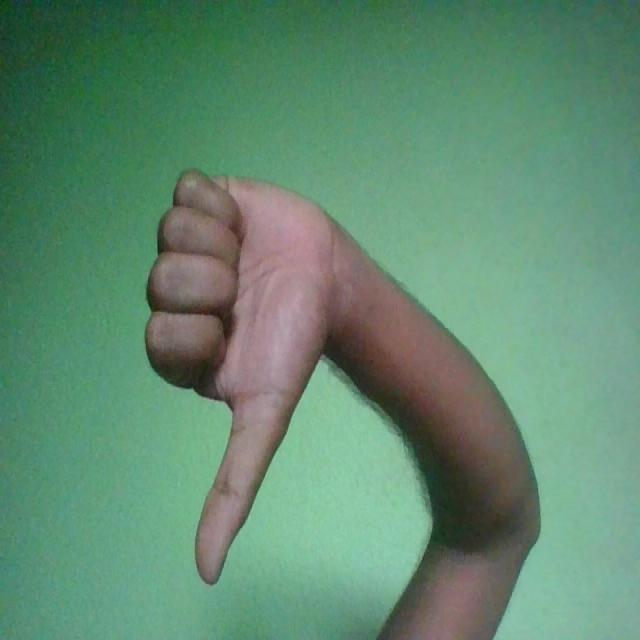Dislike: (143, 166, 346, 586)
